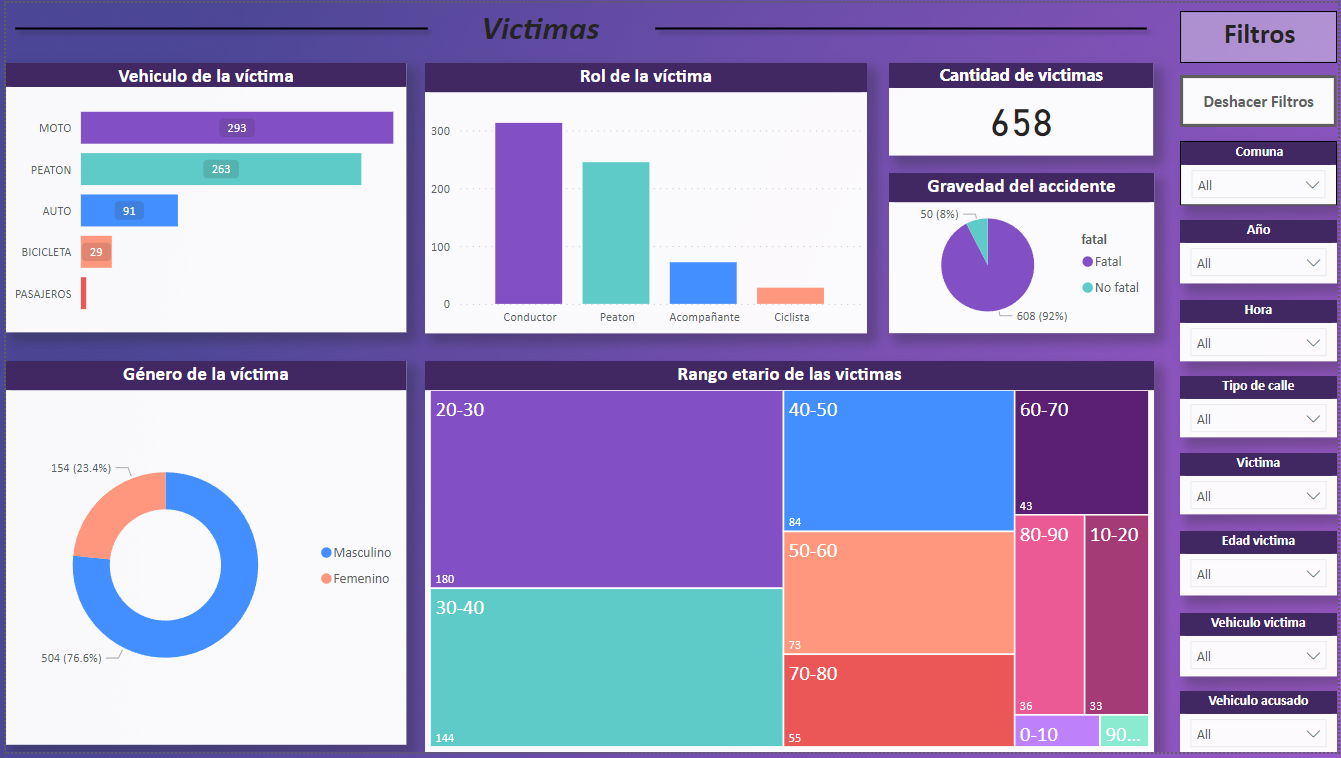

What the dashboard file says about the page in this screenshot:
{"tool":"powerbi","page":{"name":"Víctimas","canvas":[1280,720],"ordinal":2},"visuals":[{"type":"actionButton","box":[1129.1,69.1,150.9,50],"z":8000},{"type":"textbox","box":[1129.1,7.3,150.9,50],"z":8001},{"type":"slicer","title":"Año","fields":{"Values":["hechos_df.fecha.Variation.Date Hierarchy.Year"]},"box":[1129.1,208.2,150.9,60.9],"z":8002},{"type":"slicer","title":"Comuna","fields":{"Values":["hechos_df.comuna"]},"box":[1129.1,132.7,150.9,61.8],"z":8003},{"type":"slicer","title":"Victima","fields":{"Values":["victimas_df.rol"]},"box":[1129.3,433,150.7,58.7],"z":8004},{"type":"slicer","title":"Hora","fields":{"Values":["hechos_df.franja_horaria"]},"box":[1129.3,285.2,150.7,58.7],"z":8005},{"type":"slicer","title":"Vehiculo victima","fields":{"Values":["hechos_df.vehiculo_victima"]},"box":[1129.3,586.4,150.7,60.6],"z":8006},{"type":"slicer","title":"Vehiculo acusado","fields":{"Values":["hechos_df.vehiculo_acusado"]},"box":[1129.3,661.3,150.7,58.7],"z":8007},{"type":"slicer","title":"Edad victima","fields":{"Values":["victimas_df.rango_etario"]},"box":[1129.3,508.1,150.7,62.4],"z":8008},{"type":"slicer","title":"Tipo de calle","fields":{"Values":["hechos_df.tipo_de_calle"]},"box":[1129.3,359.1,150.7,58.7],"z":8009},{"type":"treemap","title":"Rango etario de las victimas","fields":{"Group":["victimas_df.rango_etario"],"Values":["Sum(hechos_df.cantidad_victimas)"]},"box":[402.9,344.2,701,376],"z":8010},{"type":"card","title":"Cantidad de victimas","fields":{"Values":["CountNonNull(victimas_df.edad_victima)"]},"box":[849,57.7,253.8,89.4],"z":8012},{"type":"barChart","title":"Vehiculo de la víctima","fields":{"Y":["Sum(hechos_df.cantidad_victimas)"],"Category":["hechos_df.vehiculo_victima"],"Series":["hechos_df.vehiculo_victima"]},"box":[0,57.7,384.6,258.7],"z":8013},{"type":"pieChart","title":"Gravedad del accidente","fields":{"Category":["victimas_df.fatal"],"Y":["CountNonNull(victimas_df.edad_victima)"]},"box":[849,163.5,254.8,153.8],"z":8014},{"type":"columnChart","title":"Rol de la víctima","fields":{"Category":["victimas_df.rol"],"Y":["CountNonNull(victimas_df.edad_victima)"],"Series":["victimas_df.rol"]},"box":[402.9,57.7,425,259.6],"z":8015},{"type":"donutChart","title":"Género de la víctima","fields":{"Category":["victimas_df.sexo_victima"],"Y":["CountNonNull(victimas_df.edad_victima)"]},"box":[0,344.2,384.6,369.2],"z":8016},{"type":"shape","box":[0,0,414.4,49],"z":8017},{"type":"shape","box":[615.4,0,490.4,49],"z":8018},{"type":"textbox","box":[402.9,0,222.1,49],"z":8019}]}

Visuals, with their boxes in screenshot pixels (x1, y1, x2, y2), scaled from the page's 1280x720 canvas onto the 1341x758 screenshot:
actionButton: detection(1183, 73, 1340, 125)
textbox: detection(1183, 8, 1340, 60)
"Año" slicer: detection(1183, 219, 1340, 283)
"Comuna" slicer: detection(1183, 140, 1340, 205)
"Victima" slicer: detection(1183, 456, 1340, 518)
"Hora" slicer: detection(1183, 300, 1340, 362)
"Vehiculo victima" slicer: detection(1183, 617, 1340, 681)
"Vehiculo acusado" slicer: detection(1183, 696, 1340, 757)
"Edad victima" slicer: detection(1183, 535, 1340, 601)
"Tipo de calle" slicer: detection(1183, 378, 1340, 440)
"Rango etario de las victimas" treemap: detection(422, 362, 1157, 757)
"Cantidad de victimas" card: detection(889, 61, 1155, 155)
"Vehiculo de la víctima" barChart: detection(0, 61, 403, 333)
"Gravedad del accidente" pieChart: detection(889, 172, 1156, 334)
"Rol de la víctima" columnChart: detection(422, 61, 867, 334)
"Género de la víctima" donutChart: detection(0, 362, 403, 751)
shape: detection(0, 0, 434, 52)
shape: detection(645, 0, 1158, 52)
textbox: detection(422, 0, 655, 52)
